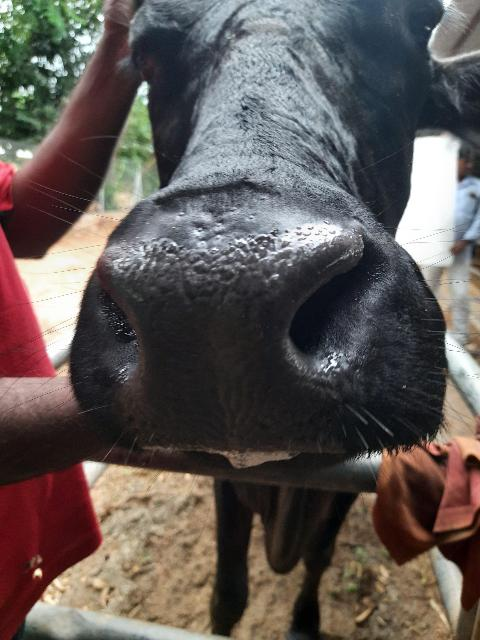Muzzle: (127, 246, 287, 446)
